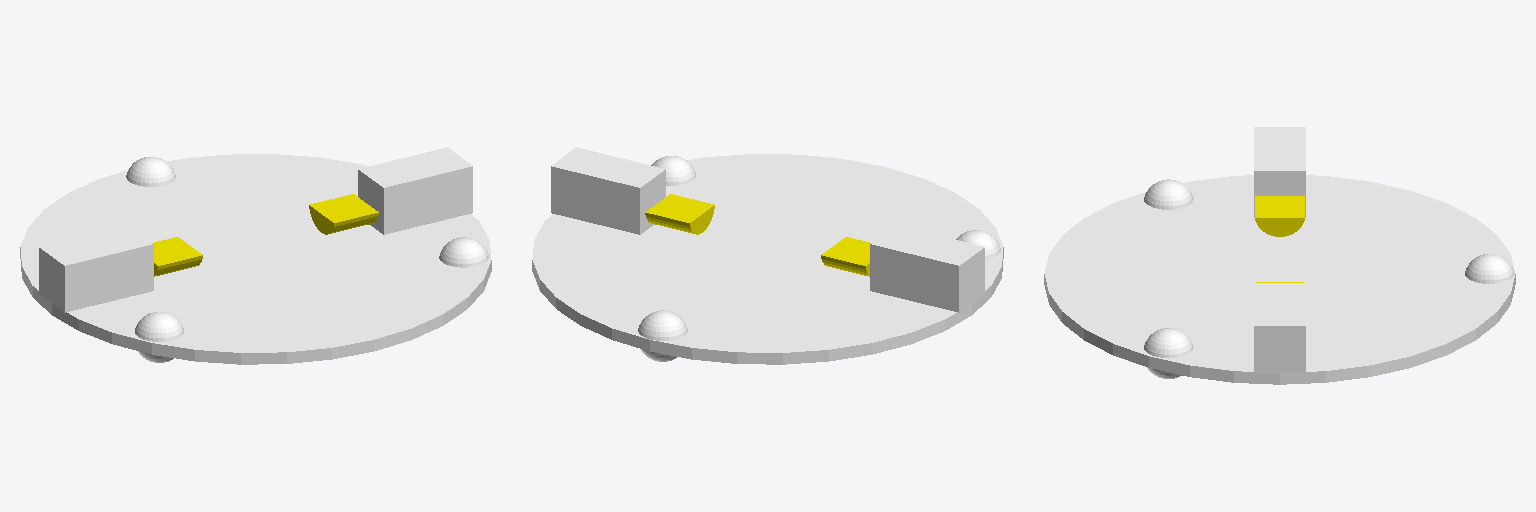
robot.urdf — microrobot:
<?xml version="1.0" ?>
<!-- =================================================================================== -->
<!-- |    This document was autogenerated by xacro from tutorial.urdf.xacro            | -->
<!-- |    EDITING THIS FILE BY HAND IS NOT RECOMMENDED                                 | -->
<!-- =================================================================================== -->
<robot name="microrobot">
  <material name="white">
    <color rgba="1 1 1 1"/>
  </material>
  <material name="gold">
    <color rgba="1 0.95 0 1"/>
  </material>
  <link name="dummy_link">
    <!-- [ WARN] [1647026126.424341897]: The root link platform_link has an 
        inertia specified in the URDF, but KDL does not support a root link with
        an inertia.  As a workaround, you can add an extra dummy link to your 
        URDF.  -->
  </link>
  <joint name="dl_to_platform" type="fixed">
    <parent link="dummy_link"/>
    <child link="platform_link"/>
  </joint>
  <link name="platform_link">
    <visual>
      <geometry>
        <cylinder length="0.001" radius="0.01825"/>
      </geometry>
      <material name="white"/>
    </visual>
    <collision>
      <geometry>
        <cylinder length="0.001" radius="0.01825"/>
      </geometry>
    </collision>
    <inertial>
      <mass value="0.085"/>
      <inertia ixx="7.084661458333332e-06" ixy="0.0" ixz="0.0" iyy="7.084661458333332e-06" iyz="0.0" izz="2.3591927083333333e-06"/>
    </inertial>
  </link>
  <link name="support_A">
    <visual>
      <geometry>
        <sphere radius="0.002"/>
      </geometry>
      <material name="white"/>
      <origin xyz=" 0.013600000000000001                      -0.008624999999999997                     0"/>
    </visual>
    <collision>
      <geometry>
        <sphere radius="0.002"/>
      </geometry>
    </collision>
    <inertial>
      <mass value="0.05"/>
      <inertia ixx="2.0000000000000004e-08" ixy="0.0" ixz="0.0" iyy="2.0000000000000004e-08" iyz="0.0" izz="2.0000000000000004e-08"/>
    </inertial>
  </link>
  <joint name="platform_to_support_A" type="fixed">
    <parent link="platform_link"/>
    <child link="support_A"/>
  </joint>
  <link name="support_B">
    <visual>
      <geometry>
        <sphere radius="0.002"/>
      </geometry>
      <material name="white"/>
      <origin xyz="0 0.01625 0"/>
    </visual>
    <collision>
      <geometry>
        <sphere radius="0.002"/>
      </geometry>
    </collision>
    <inertial>
      <mass value="0.05"/>
      <inertia ixx="2.0000000000000004e-08" ixy="0.0" ixz="0.0" iyy="2.0000000000000004e-08" iyz="0.0" izz="2.0000000000000004e-08"/>
    </inertial>
  </link>
  <joint name="platform_to_support_B" type="fixed">
    <parent link="platform_link"/>
    <child link="support_B"/>
  </joint>
  <link name="support_C">
    <visual>
      <geometry>
        <sphere radius="0.002"/>
      </geometry>
      <material name="white"/>
      <origin xyz=" -0.013600000000000001                      -0.008624999999999997                     0"/>
    </visual>
    <collision>
      <geometry>
        <sphere radius="0.002"/>
      </geometry>
    </collision>
    <inertial>
      <mass value="0.05"/>
      <inertia ixx="2.0000000000000004e-08" ixy="0.0" ixz="0.0" iyy="2.0000000000000004e-08" iyz="0.0" izz="2.0000000000000004e-08"/>
    </inertial>
  </link>
  <joint name="platform_to_support_C" type="fixed">
    <parent link="platform_link"/>
    <child link="support_C"/>
  </joint>
  <link name="left_motor">
    <visual>
      <geometry>
        <box size="0.008 0.004 0.004"/>
      </geometry>
      <material name="white"/>
      <origin xyz=" -0.014250000000000002                      0                      0.0025"/>
    </visual>
    <collision>
      <geometry>
        <box size="0.008 0.004 0.004"/>
      </geometry>
    </collision>
    <inertial>
      <mass value="0.01"/>
      <inertia ixx="6.666666666666665e-08" ixy="0.0" ixz="0.0" iyy="6.666666666666665e-08" iyz="0.0" izz="6.666666666666665e-08"/>
    </inertial>
  </link>
  <joint name="platform_to_left_motor" type="fixed">
    <parent link="platform_link"/>
    <child link="left_motor"/>
  </joint>
  <link name="left_eccenter">
    <visual>
      <geometry>
        <mesh filename="package://microrobot/meshes/test.stl" scale="0.05 0.05 0.05"/>
      </geometry>
      <material name="gold"/>
      <origin rpy="0 0 0" xyz=" 0                       0                     0"/>
    </visual>
    <collision>
      <geometry>
        <mesh filename="package://microrobot/meshes/test.stl" scale="0.05 0.05 0.05"/>
      </geometry>
    </collision>
    <inertial>
      <mass value="0.00021"/>
      <inertia ixx="0.888081" ixy="0.0" ixz="0.0" iyy="1.305504" iyz="0.0" izz="0.627865"/>
    </inertial>
  </link>
  <joint name="left_motor_to_eccenter" type="continuous">
    <parent link="left_motor"/>
    <child link="left_eccenter"/>
    <axis xyz="1 0 0"/>
    <origin xyz=" -0.00585                     0                   0.0025"/>
  </joint>
  <link name="right_motor">
    <visual>
      <geometry>
        <box size="0.008 0.004 0.004"/>
      </geometry>
      <material name="white"/>
      <origin xyz=" 0.014250000000000002                      0                      0.0025"/>
    </visual>
    <collision>
      <geometry>
        <box size="0.008 0.004 0.004"/>
      </geometry>
    </collision>
    <inertial>
      <mass value="0.01"/>
      <inertia ixx="6.666666666666665e-08" ixy="0.0" ixz="0.0" iyy="6.666666666666665e-08" iyz="0.0" izz="6.666666666666665e-08"/>
    </inertial>
  </link>
  <joint name="platform_to_right_motor" type="fixed">
    <parent link="platform_link"/>
    <child link="right_motor"/>
  </joint>
  <link name="right_eccenter">
    <visual>
      <geometry>
        <mesh filename="package://microrobot/meshes/test.stl" scale="0.05 0.05 0.05"/>
      </geometry>
      <material name="gold"/>
      <origin rpy="0 0 3.141592653589793" xyz=" 0                       0                     0"/>
    </visual>
    <collision>
      <geometry>
        <mesh filename="package://microrobot/meshes/test.stl" scale="0.05 0.05 0.05"/>
      </geometry>
    </collision>
    <inertial>
      <mass value="0.00021"/>
      <inertia ixx="0.888081" ixy="0.0" ixz="0.0" iyy="1.305504" iyz="0.0" izz="0.627865"/>
    </inertial>
  </link>
  <joint name="right_motor_to_eccenter" type="continuous">
    <parent link="right_motor"/>
    <child link="right_eccenter"/>
    <axis xyz="1 0 0"/>
    <origin xyz=" 0.00585                     0                   0.0025"/>
  </joint>
</robot>

--- Render facts (derived) ---
3 views of the same robot in one strip: view 1: azimuth 30°, elevation 25°; view 2: azimuth 150°, elevation 25°; view 3: azimuth 270°, elevation 25° (orthographic).
Model microrobot with 9 links and 8 joints (2 continuous, 6 fixed), rooted at dummy_link, posed every joint at zero.
Visible links, largest first — view 1: platform_link, left_motor, right_motor, right_eccenter, left_eccenter, support_C, support_A, support_B; view 2: platform_link, left_motor, right_motor, right_eccenter, support_B, left_eccenter, support_A, support_C; view 3: platform_link, right_motor, left_motor, left_eccenter, support_A, support_B, support_C.
Boxes of the visible links, x1,y1,x2,y2 form: platform_link: (20, 154, 491, 364); left_motor: (39, 225, 153, 312); right_motor: (358, 147, 472, 234); right_eccenter: (309, 194, 378, 234); left_eccenter: (153, 237, 202, 276); support_C: (135, 312, 183, 362); support_A: (439, 237, 488, 267); support_B: (126, 157, 175, 186); platform_link: (532, 154, 1003, 364); left_motor: (870, 225, 984, 312); right_motor: (551, 147, 665, 234); right_eccenter: (645, 194, 714, 234); support_B: (638, 310, 687, 361); left_eccenter: (821, 237, 870, 276); support_A: (651, 156, 695, 185); support_C: (956, 230, 1000, 259); platform_link: (1044, 175, 1515, 384); right_motor: (1254, 283, 1305, 372); left_motor: (1254, 127, 1305, 217); left_eccenter: (1255, 196, 1304, 236); support_A: (1144, 328, 1193, 378); support_B: (1465, 254, 1514, 283); support_C: (1144, 179, 1193, 209).
Size in the robot's own frame: 0.0365 by 0.0365 by 0.0065 metres.
2 mesh visuals loaded from 1 distinct referenced files (1 binary STL).